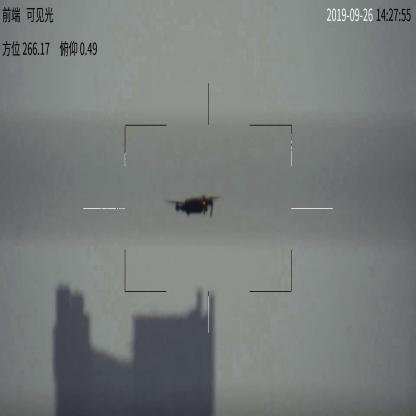uav: (165, 194, 218, 221)
